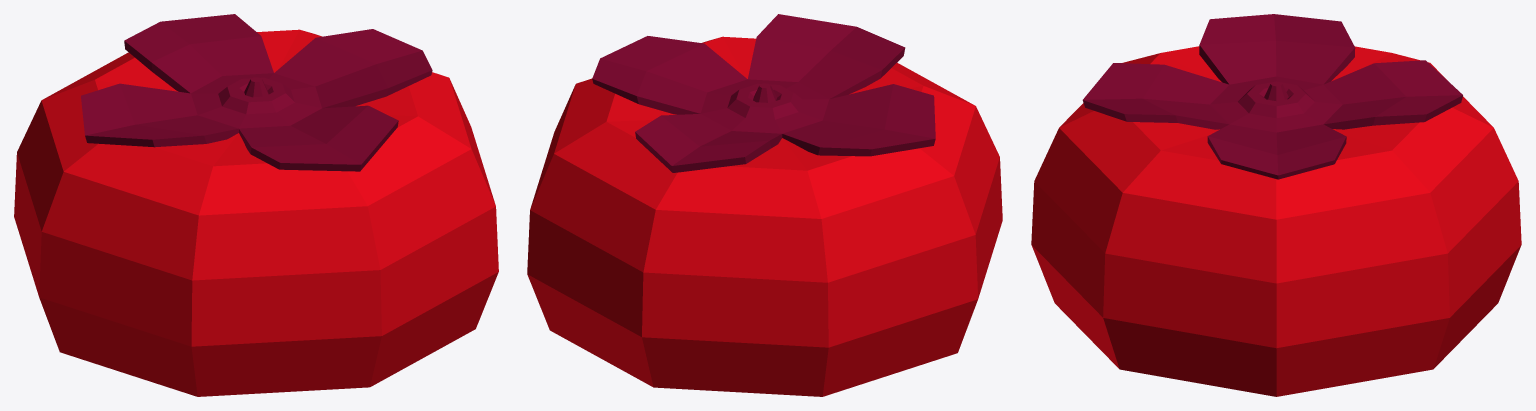
The model's file is Persimmon_01.fbx.
The picture shows the model from 3 angles, left to right: view 1: azimuth 30°, elevation 25°; view 2: azimuth 150°, elevation 25°; view 3: azimuth 270°, elevation 25°; orthographic projection. The views are drawn at different scales.
Parts seen in each view (by area): view 1: Persimmon_01; view 2: Persimmon_01; view 3: Persimmon_01.
Part boxes in pixels (box(x1,y1,x2,y2)): Persimmon_01: box(14, 14, 498, 396); Persimmon_01: box(527, 14, 1002, 396); Persimmon_01: box(1031, 14, 1521, 396).
Bounding box in the file's own units: 5.49 × 2.94 × 5.49.
